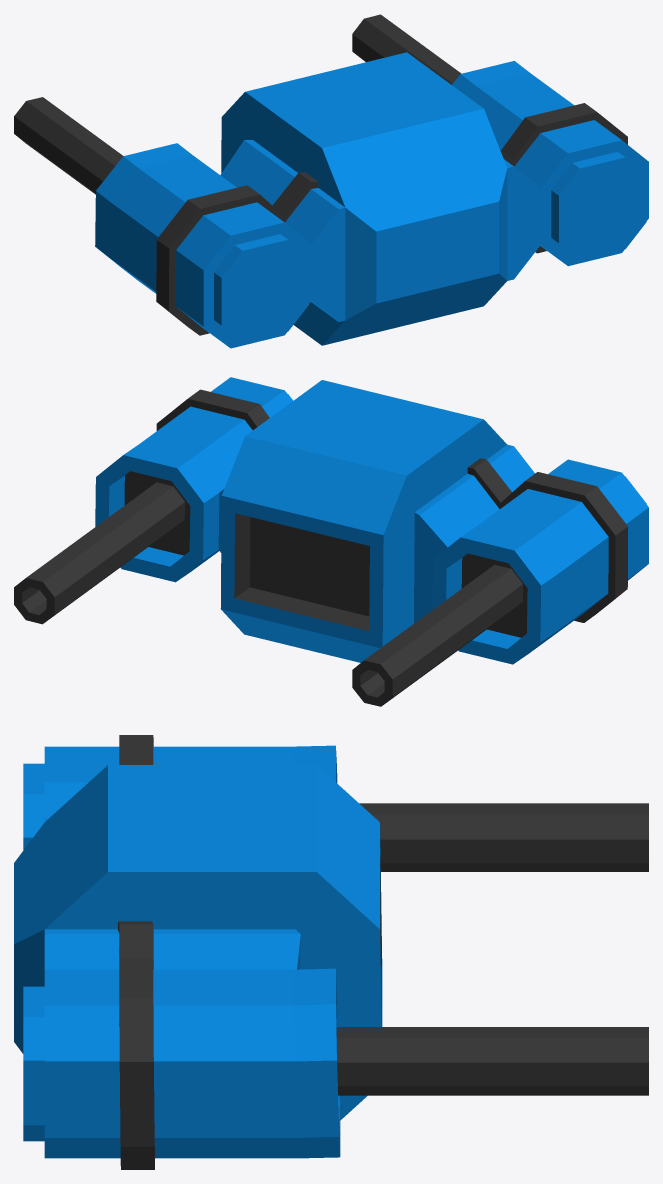
File: turret0head 1.fbx
3 views of the same model, one above another, from view 1: azimuth 30°, elevation 25°; view 2: azimuth 150°, elevation 25°; view 3: azimuth 270°, elevation 25° (orthographic). The views are drawn at different scales.
Parts seen in each view (by area): view 1: Cube.002; view 2: Cube.002; view 3: Cube.002.
Part boxes in pixels (x1=…): Cube.002: x1=14, y1=14, x2=648, y2=348; Cube.002: x1=14, y1=377, x2=648, y2=706; Cube.002: x1=14, y1=735, x2=648, y2=1169.
Size of the model in its own units: 170 by 70 by 150.
